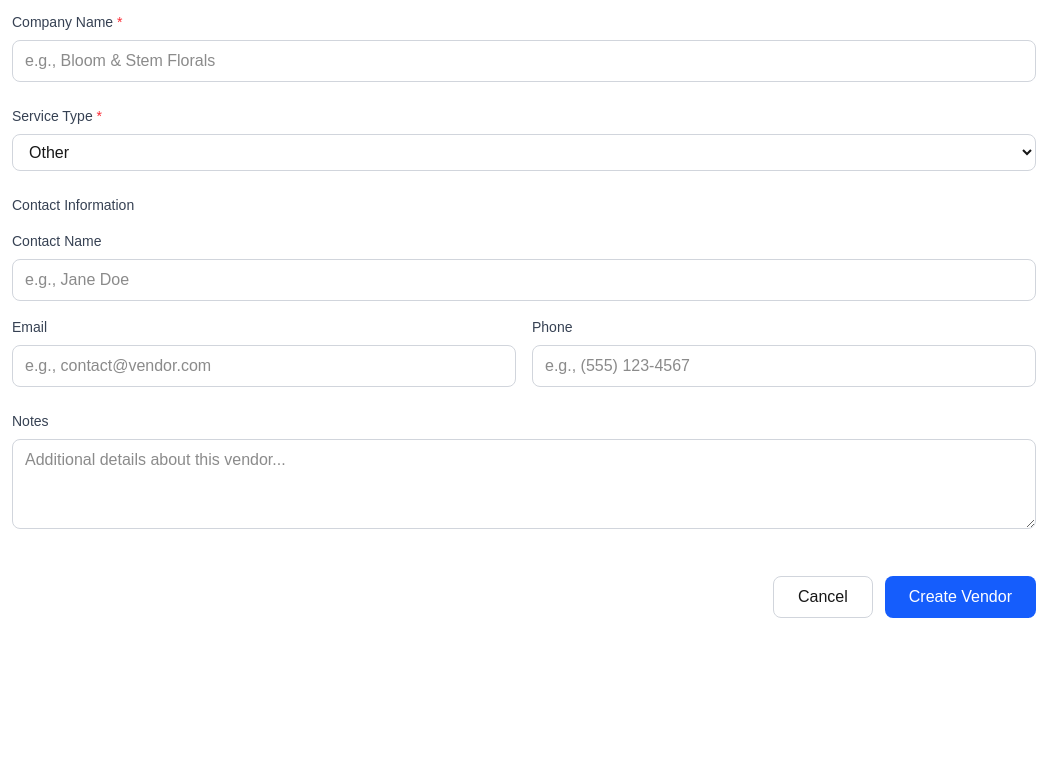
VendorForm › shows validation error when company name is empty
Click the button "Create Vendor".
click(960, 597)  # box [885,576,1036,618]
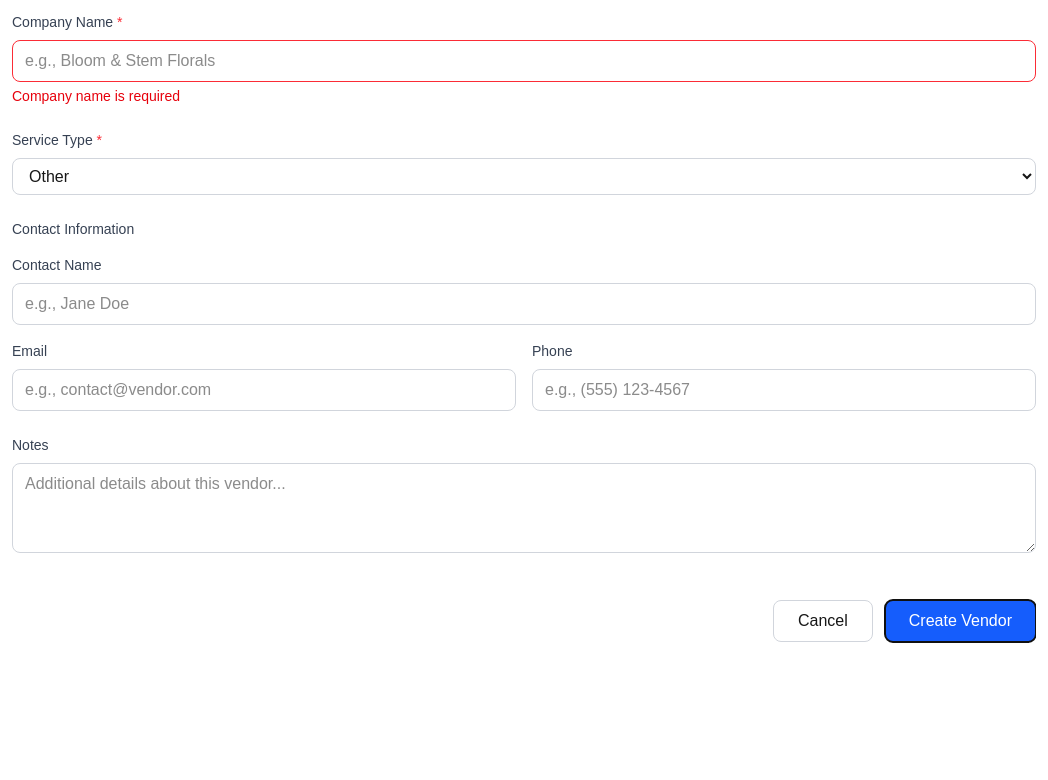
Expected: the text "Company name is required" is shown, [12,88,180,104]
